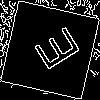E: (25, 25, 82, 77)
